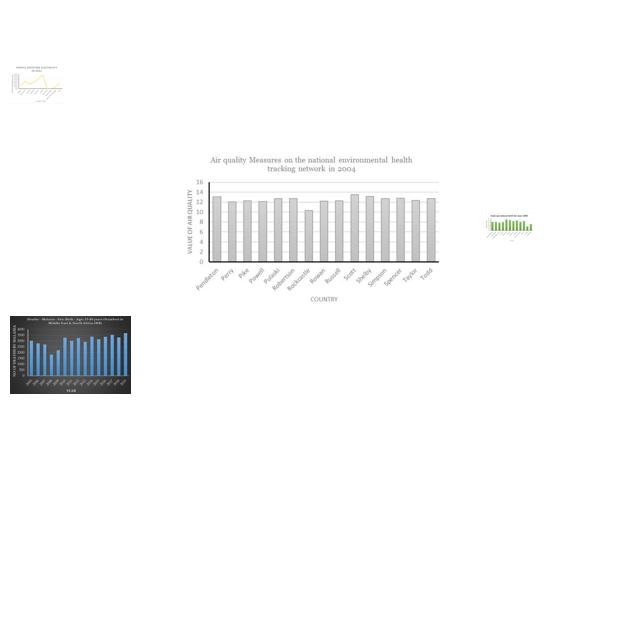Graph: (178, 151, 444, 307), (10, 316, 131, 394), (10, 65, 64, 104), (484, 213, 534, 243)
